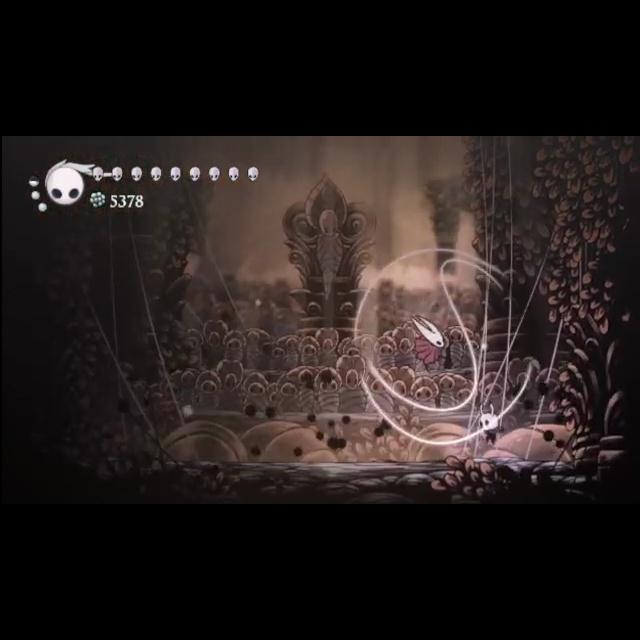EnemyAirAttack: (399, 309, 456, 375)
Player: (471, 399, 507, 449)
